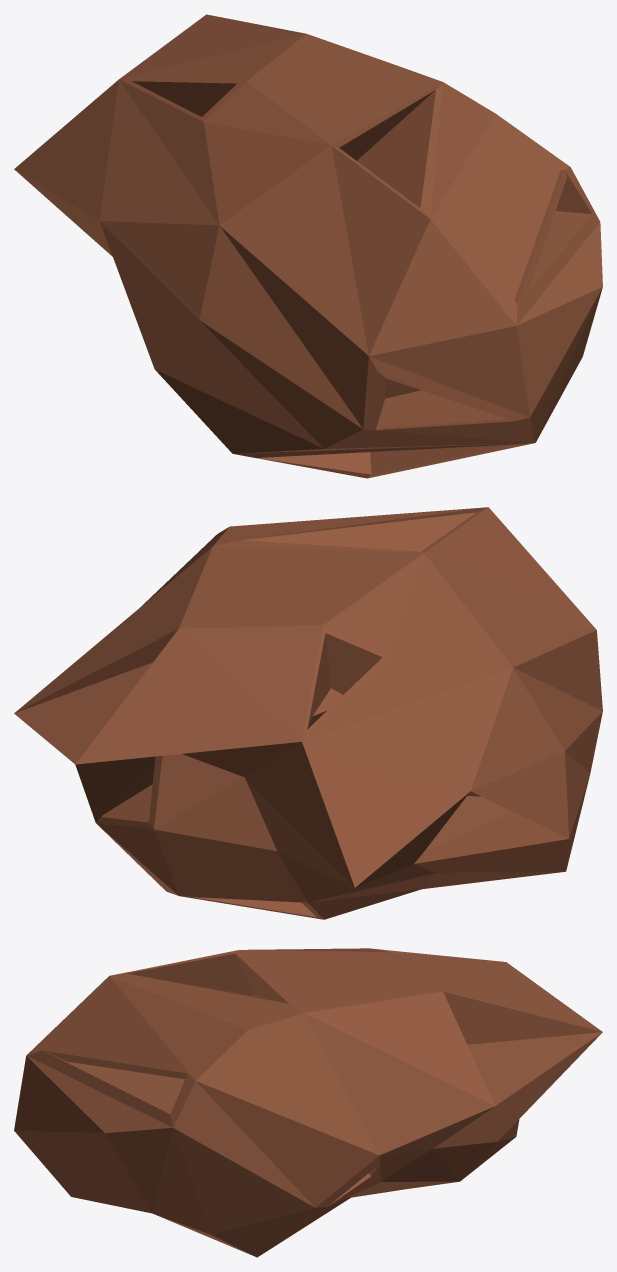
Rendered from Asteroid.005.glb.
3 renders of one model, top to bottom at view 1: azimuth 30°, elevation 25°; view 2: azimuth 150°, elevation 25°; view 3: azimuth 270°, elevation 25°, orthographic. The views are drawn at different scales.
Parts seen in each view (by area): view 1: Asteroid.005; view 2: Asteroid.005; view 3: Asteroid.005.
Boxes of the visible parts, bbox=[...] form: Asteroid.005: bbox=[14, 14, 602, 478]; Asteroid.005: bbox=[14, 507, 602, 919]; Asteroid.005: bbox=[14, 948, 602, 1257].
Bounding box in the file's own units: 8.67 × 6.57 × 13.17.
1 material, 1 textured.
